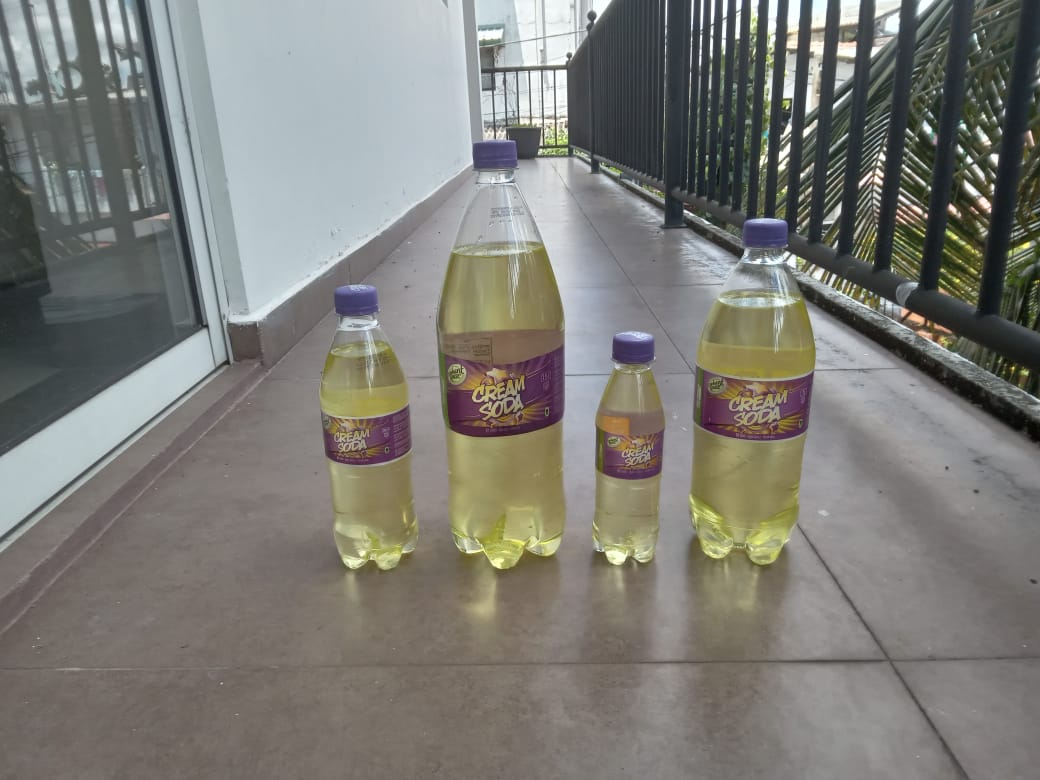L: (435, 144, 568, 570)
M: (691, 219, 816, 565)
S: (313, 287, 422, 572)
Xs: (591, 335, 664, 565)
